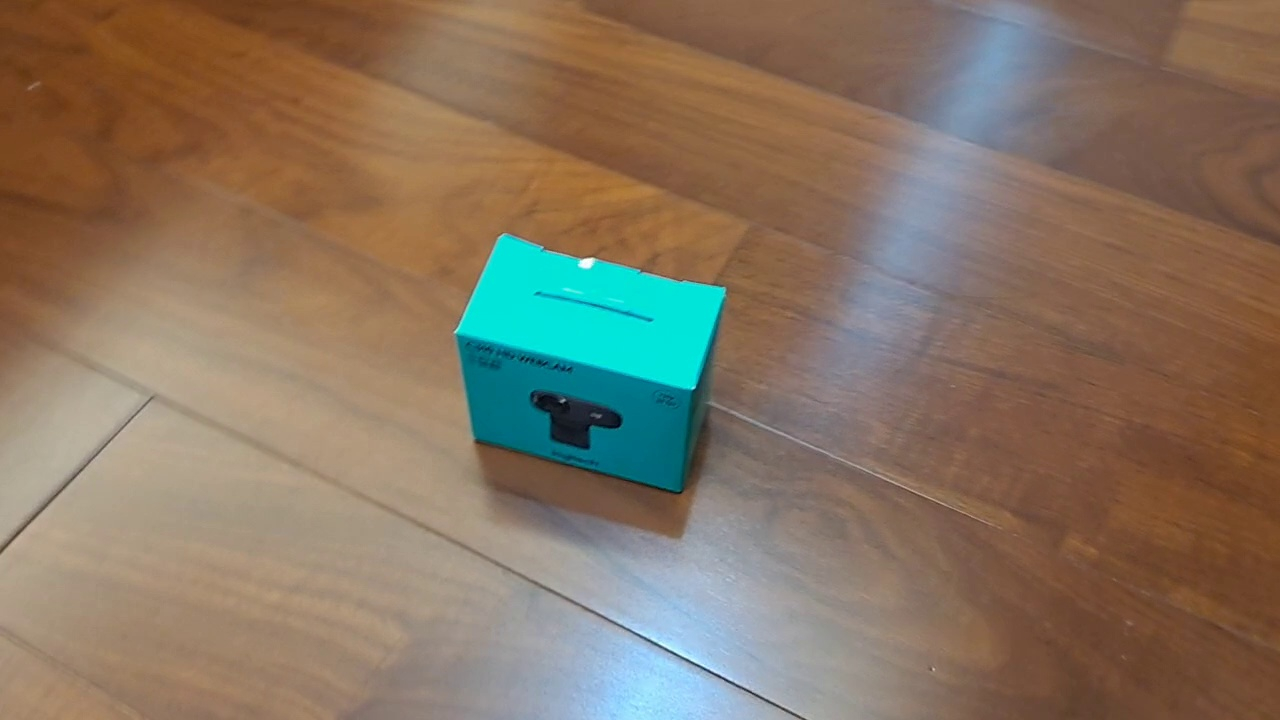webcam: (452, 232, 728, 495)
